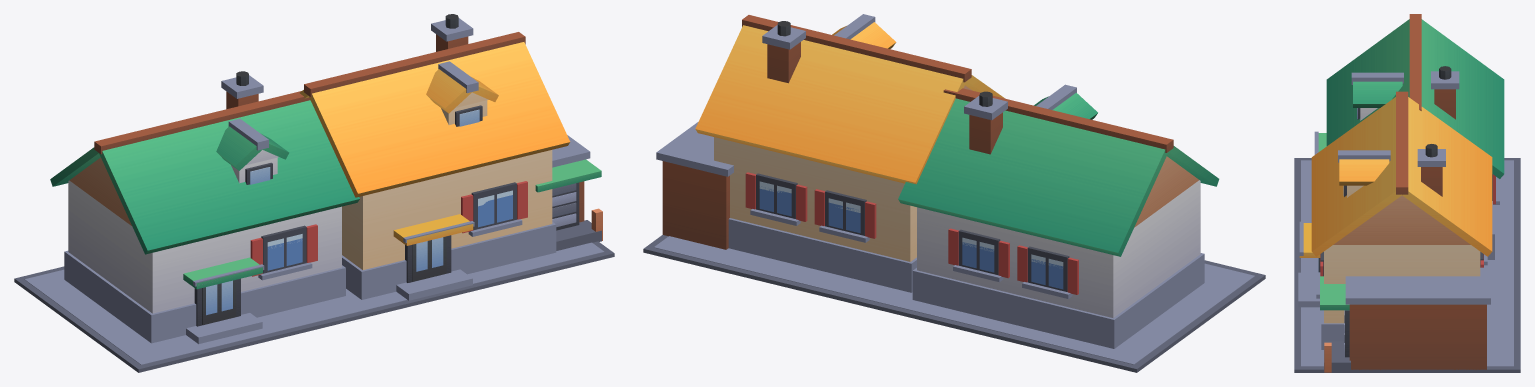
Rendered from res_swiss_duplex_2x1.glb.
The picture shows the model from 3 angles, left to right: view 1: azimuth 30°, elevation 25°; view 2: azimuth 150°, elevation 25°; view 3: azimuth 270°, elevation 25°; orthographic projection. The views are drawn at different scales.
Visible parts, largest first — view 1: res_swiss_duplex_2x1; view 2: res_swiss_duplex_2x1; view 3: res_swiss_duplex_2x1.
Boxes of the visible parts, x1,y1,x2,y2 form: res_swiss_duplex_2x1: (14, 14, 614, 372); res_swiss_duplex_2x1: (643, 14, 1265, 372); res_swiss_duplex_2x1: (1294, 14, 1520, 372).
Bounding box in the file's own units: 3.76 × 1.54 × 1.68.
1 material, 1 textured.
